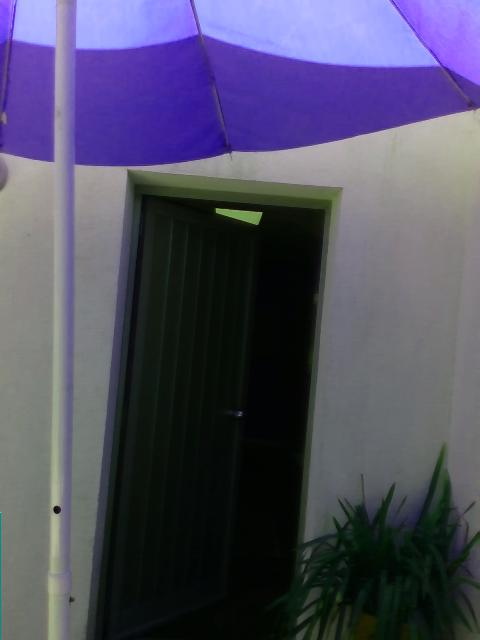semi_door: (85, 167, 348, 638)
